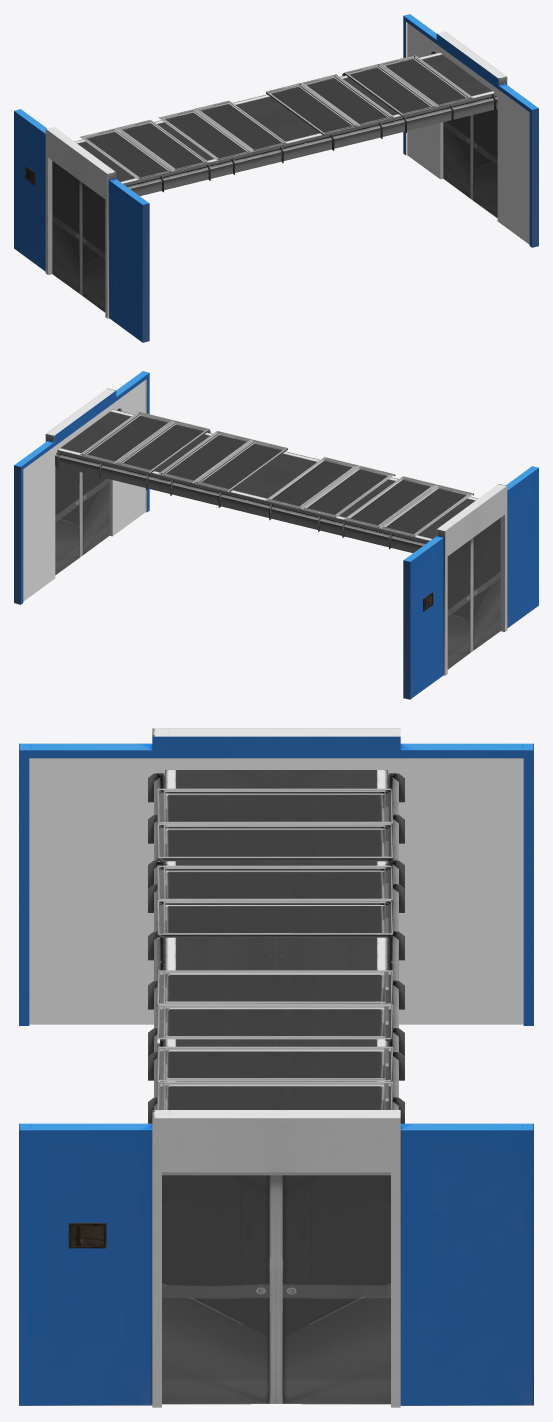
The model's file is set7G_1800.obj.
The picture shows the model from 3 angles, top to bottom: view 1: azimuth 30°, elevation 25°; view 2: azimuth 150°, elevation 25°; view 3: azimuth 270°, elevation 25°; orthographic projection. The views are drawn at different scales.
Visible parts, largest first — view 1: set7G; view 2: set7G; view 3: set7G.
Part boxes in pixels (x1,y1,x2,y2): set7G: (14, 14, 538, 342); set7G: (14, 371, 538, 699); set7G: (19, 728, 533, 1407).
Size of the model in its own units: 7.52 by 2.6 by 4.2.
